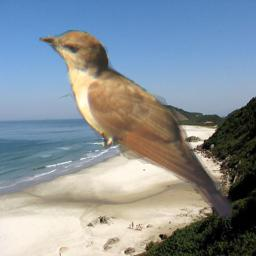Cuckoo: (39, 30, 232, 220)
